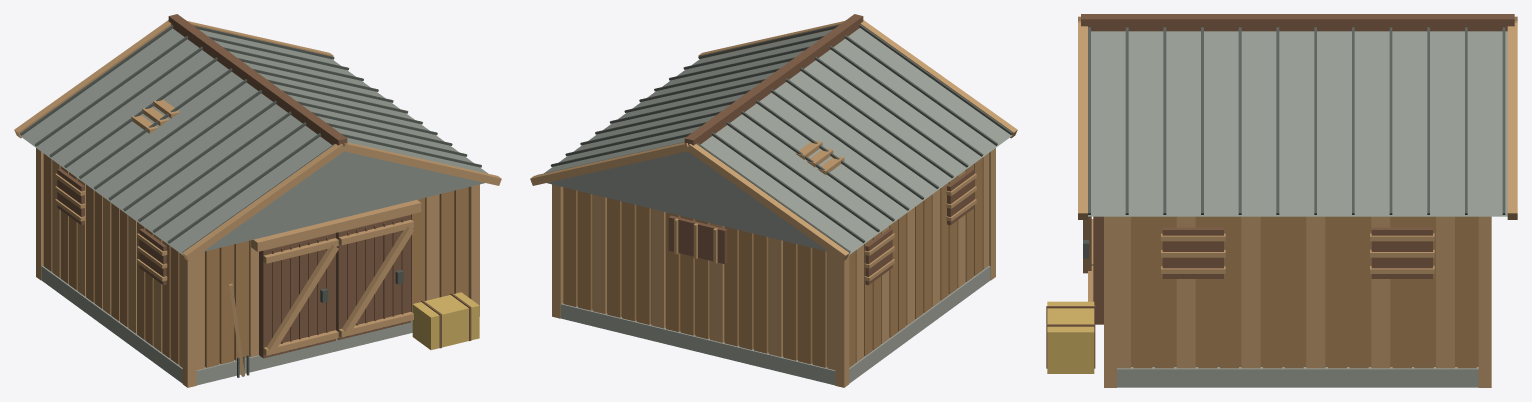
File: farm_art_barn_starter.glb
3 views of the same model, side by side, from view 1: azimuth 30°, elevation 25°; view 2: azimuth 150°, elevation 25°; view 3: azimuth 270°, elevation 25° (orthographic). The views are drawn at different scales.
Visible parts, largest first — view 1: Closed gable roof, Closed timber door.001, Closed timber door, Solid stone footing, Roof ridge cap, Straw bale, Front lintel, Roof edge fascia, Corner post, Vertical weatherboard.001, Vertical weatherboard.002, Roof edge fascia.002 (+60 smaller); view 2: Closed gable roof, Solid stone footing, Roof ridge cap, Roof edge fascia.001, Closed barn shell, Corner post.001, Rear boarded vent, Vertical weatherboard.035, Vertical weatherboard.020, Vertical weatherboard.022, Vertical weatherboard.023, Vertical weatherboard.031 (+61 smaller); view 3: Closed gable roof, Roof ridge cap, Solid stone footing, Closed barn shell, Straw bale, Side weatherboard.023, Side weatherboard.018, Side weatherboard.024, Side weatherboard.025, Side weatherboard.026, Side weatherboard.028, Side weatherboard.033 (+31 smaller).
Part boxes in pixels (box(x1,y1,x2,y2)): Closed gable roof: box(19, 28, 487, 255); Closed timber door.001: box(336, 214, 410, 339); Closed timber door: box(259, 233, 335, 358); Solid stone footing: box(41, 265, 412, 385); Roof ridge cap: box(168, 14, 347, 145); Straw bale: box(412, 292, 479, 349); Front lintel: box(251, 200, 421, 251); Roof edge fascia: box(182, 144, 343, 261); Corner post: box(182, 255, 196, 387); Vertical weatherboard.001: box(205, 248, 219, 367); Vertical weatherboard.002: box(219, 244, 233, 364); Roof edge fascia.002: box(343, 142, 501, 185); Closed gable roof: box(544, 28, 1012, 255); Solid stone footing: box(561, 266, 990, 385); Roof ridge cap: box(684, 14, 863, 145); Roof edge fascia.001: box(686, 144, 849, 261); Closed barn shell: box(577, 191, 827, 366); Corner post.001: box(835, 255, 849, 387); Rear boarded vent: box(668, 215, 727, 264); Vertical weatherboard.035: box(592, 194, 606, 314); Vertical weatherboard.020: box(812, 248, 826, 367); Vertical weatherboard.022: box(783, 241, 797, 360); Vertical weatherboard.023: box(768, 237, 782, 356); Vertical weatherboard.031: box(651, 208, 665, 328); Closed gable roof: box(1088, 31, 1507, 216); Roof ridge cap: box(1081, 14, 1514, 31); Solid stone footing: box(1117, 367, 1478, 387); Closed barn shell: box(1131, 216, 1478, 366); Straw bale: box(1047, 301, 1094, 373); Side weatherboard.023: box(1241, 216, 1260, 368); Side weatherboard.018: box(1133, 216, 1152, 368); Side weatherboard.024: box(1263, 216, 1282, 368); Side weatherboard.025: box(1284, 216, 1303, 368); Side weatherboard.026: box(1306, 216, 1325, 368); Side weatherboard.028: box(1349, 216, 1368, 368); Side weatherboard.033: box(1457, 216, 1476, 368).
Size of the model in its own units: 6.46 by 4.29 by 6.54.
